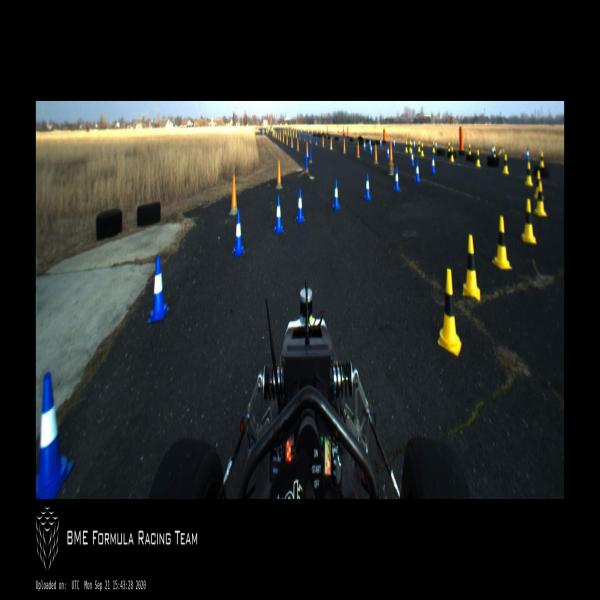blue_cone: (36, 372, 73, 499), (148, 255, 169, 323), (232, 210, 245, 258), (274, 194, 284, 234), (295, 186, 305, 224), (332, 178, 340, 212), (364, 170, 371, 201), (393, 166, 400, 192), (414, 160, 420, 184), (430, 153, 436, 174), (526, 147, 530, 162), (411, 152, 414, 167), (386, 146, 389, 159), (363, 141, 366, 153), (491, 145, 494, 156), (413, 139, 416, 150), (370, 143, 372, 155), (435, 140, 437, 150), (393, 138, 395, 148), (380, 138, 382, 148), (369, 138, 371, 148)
unknown_cone: (228, 175, 238, 216), (275, 159, 283, 189), (304, 151, 309, 173), (308, 145, 313, 164), (374, 144, 378, 164), (356, 140, 360, 159), (342, 138, 346, 153), (296, 138, 300, 151), (290, 136, 294, 149), (303, 130, 306, 142), (309, 132, 312, 143), (330, 136, 332, 150), (322, 135, 324, 148), (315, 133, 317, 145), (286, 134, 288, 144), (282, 134, 284, 144), (298, 131, 300, 140), (292, 129, 294, 138), (290, 128, 292, 137), (280, 133, 282, 141), (295, 130, 297, 138)
yellow_cone: (438, 268, 462, 357), (463, 234, 480, 301), (492, 216, 512, 269), (521, 198, 537, 244), (534, 180, 548, 217), (534, 170, 541, 200), (525, 162, 533, 186), (502, 153, 509, 174), (475, 149, 481, 168), (450, 146, 454, 162), (540, 151, 544, 167), (417, 141, 421, 152), (405, 140, 408, 154), (468, 143, 471, 156), (421, 143, 424, 156), (432, 142, 435, 154), (493, 146, 496, 158), (410, 142, 412, 154), (409, 140, 411, 152), (448, 142, 450, 152)
